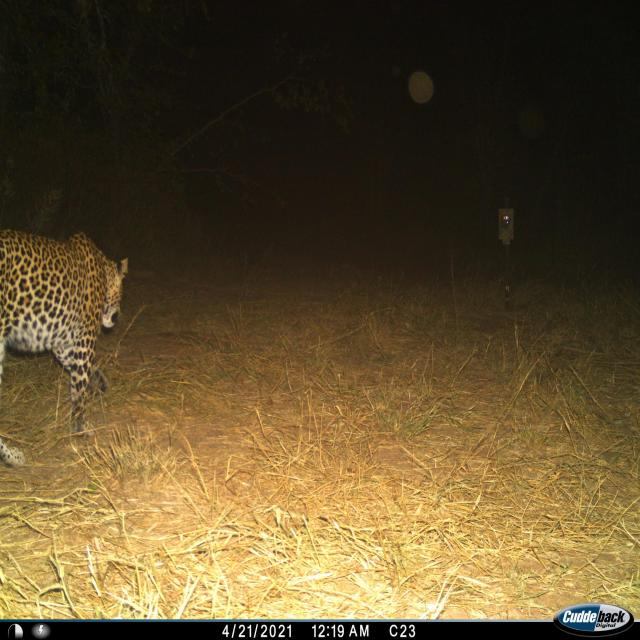Leopard: (0, 202, 122, 462)
